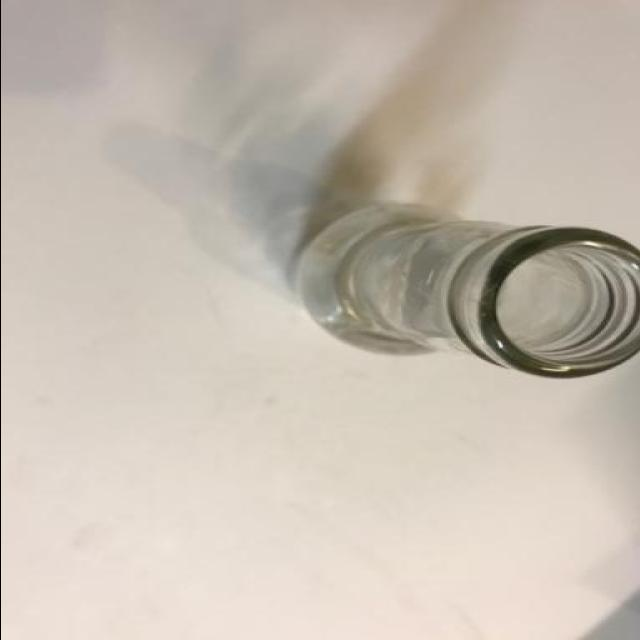glass: (301, 204, 640, 387)
